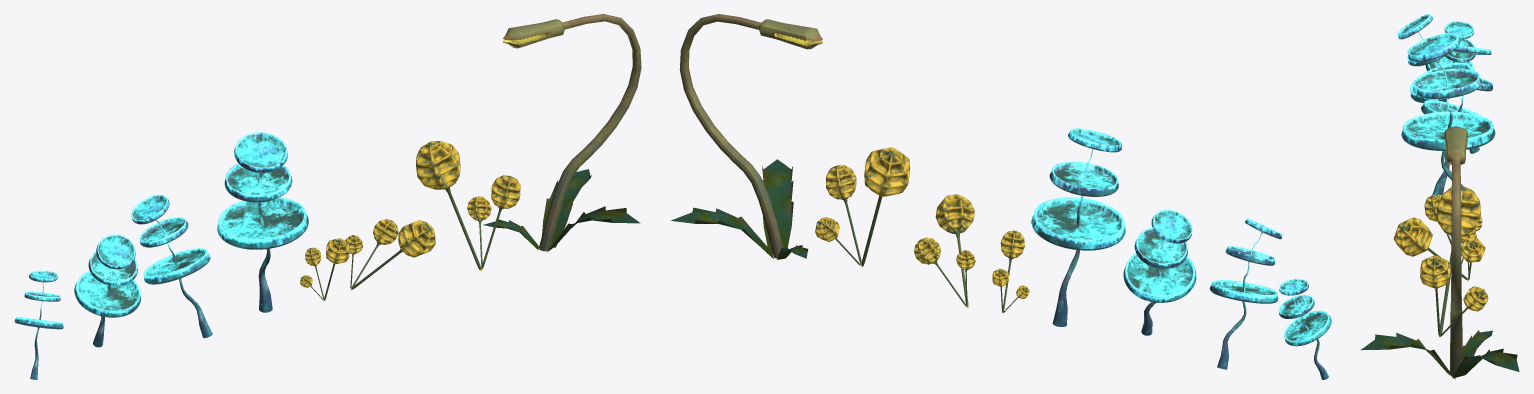
The model's file is alienPlants3_edit_for_FBX.fbx.
The picture shows the model from 3 angles, left to right: view 1: azimuth 30°, elevation 25°; view 2: azimuth 150°, elevation 25°; view 3: azimuth 270°, elevation 25°; orthographic projection. The views are drawn at different scales.
Parts seen in each view (by area): view 1: plants04, plants08, plants02, plants03, plants07, plants06, plants01, plants05; view 2: plants08, plants04, plants03, plants07, plants02, plants01, plants06, plants05; view 3: plants04, plants08, plants07, plants06, plants03, plants02, plants01, plants05.
Part boxes in pixels (left/top/right/bottom): plants04: left=217, top=132, right=308, bottom=312; plants08: left=483, top=14, right=641, bottom=251; plants02: left=74, top=234, right=140, bottom=347; plants03: left=131, top=194, right=212, bottom=338; plants07: left=416, top=141, right=520, bottom=270; plants06: left=345, top=219, right=435, bottom=289; plants01: left=14, top=270, right=63, bottom=379; plants05: left=300, top=238, right=349, bottom=300; plants08: left=671, top=14, right=822, bottom=259; plants04: left=1031, top=128, right=1125, bottom=326; plants03: left=1123, top=209, right=1196, bottom=335; plants07: left=815, top=147, right=909, bottom=266; plants02: left=1209, top=218, right=1282, bottom=369; plants01: left=1278, top=279, right=1331, bottom=379; plants06: left=914, top=194, right=975, bottom=307; plants05: left=992, top=230, right=1029, bottom=312; plants04: left=1401, top=33, right=1495, bottom=186; plants08: left=1360, top=126, right=1519, bottom=379; plants07: left=1420, top=186, right=1488, bottom=337; plants06: left=1393, top=217, right=1485, bottom=280; plants03: left=1421, top=45, right=1493, bottom=195; plants02: left=1397, top=14, right=1479, bottom=153; plants01: left=1425, top=21, right=1475, bottom=101; plants05: left=1424, top=194, right=1482, bottom=264.
Size of the model in its own units: 236 by 82.47 by 50.99.
